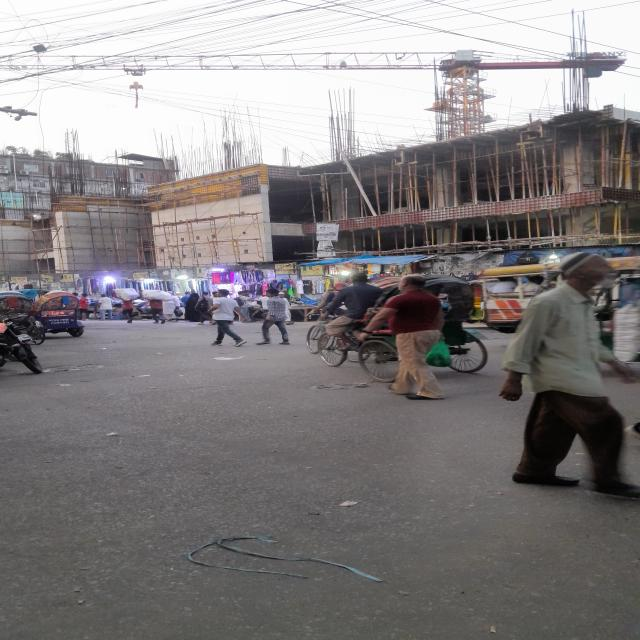person: (499, 252, 640, 498), (360, 274, 444, 400), (212, 289, 246, 347), (257, 289, 290, 346)
